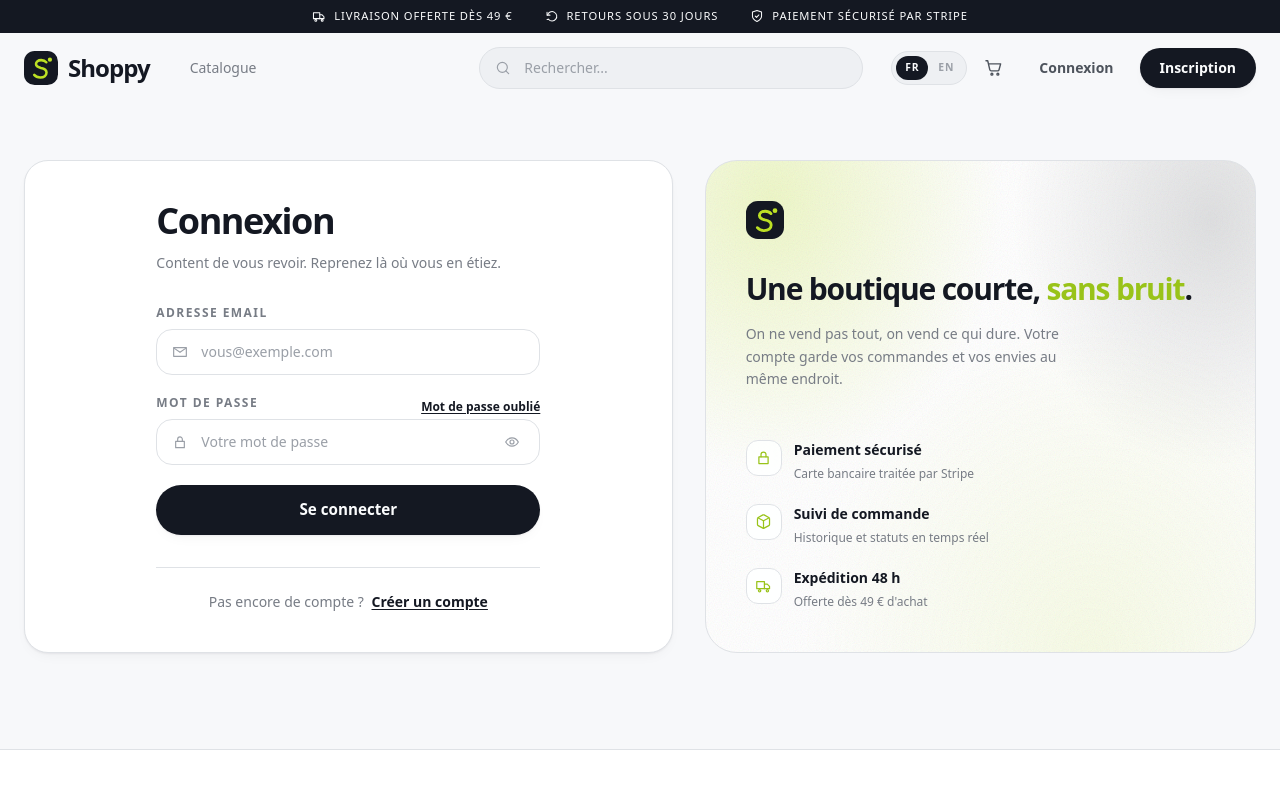
it: LoginPage › logs in and redirects to the catalog
This screenshot has width=1280, height=800.
In the field labelled "Adresse email": (348, 352) [156,329,540,375], type "visitor@shoppy.test"
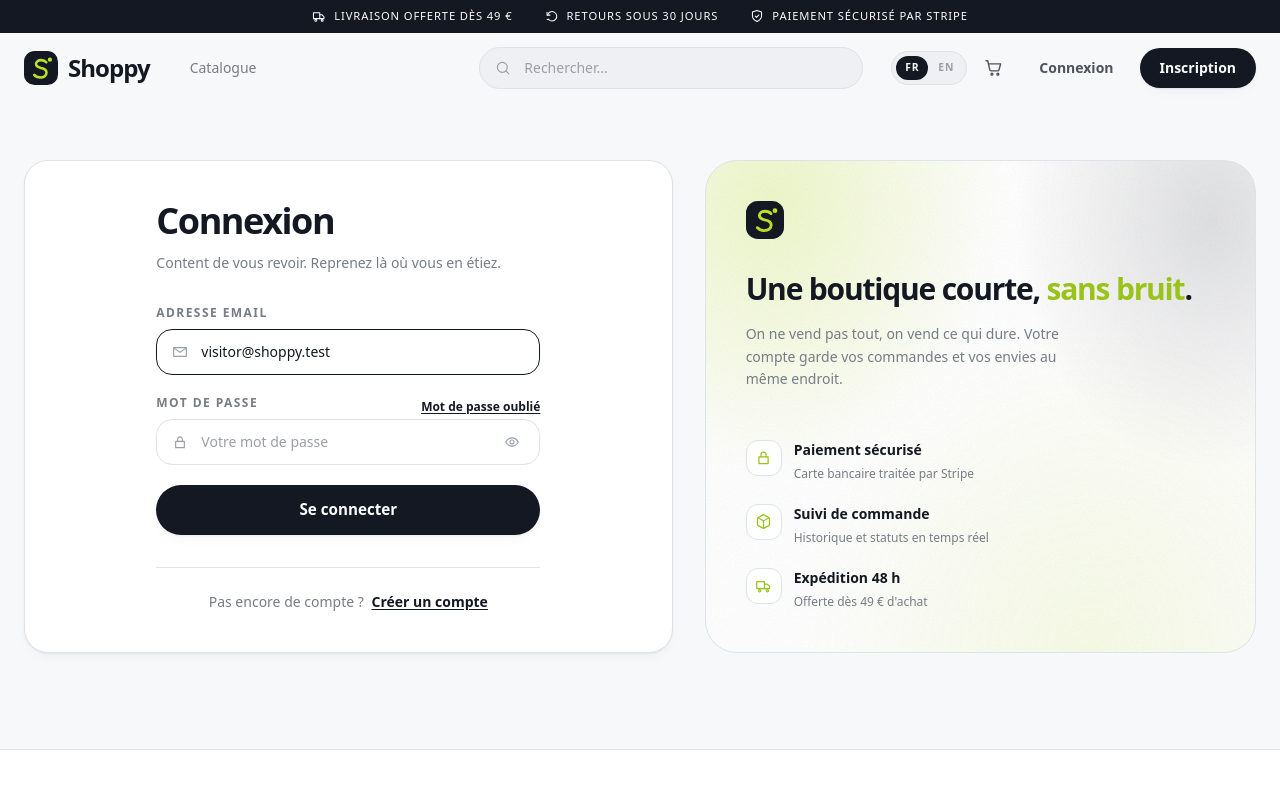
In the password field labelled "Mot de passe": (348, 442) [156,419,540,465], type "password123"
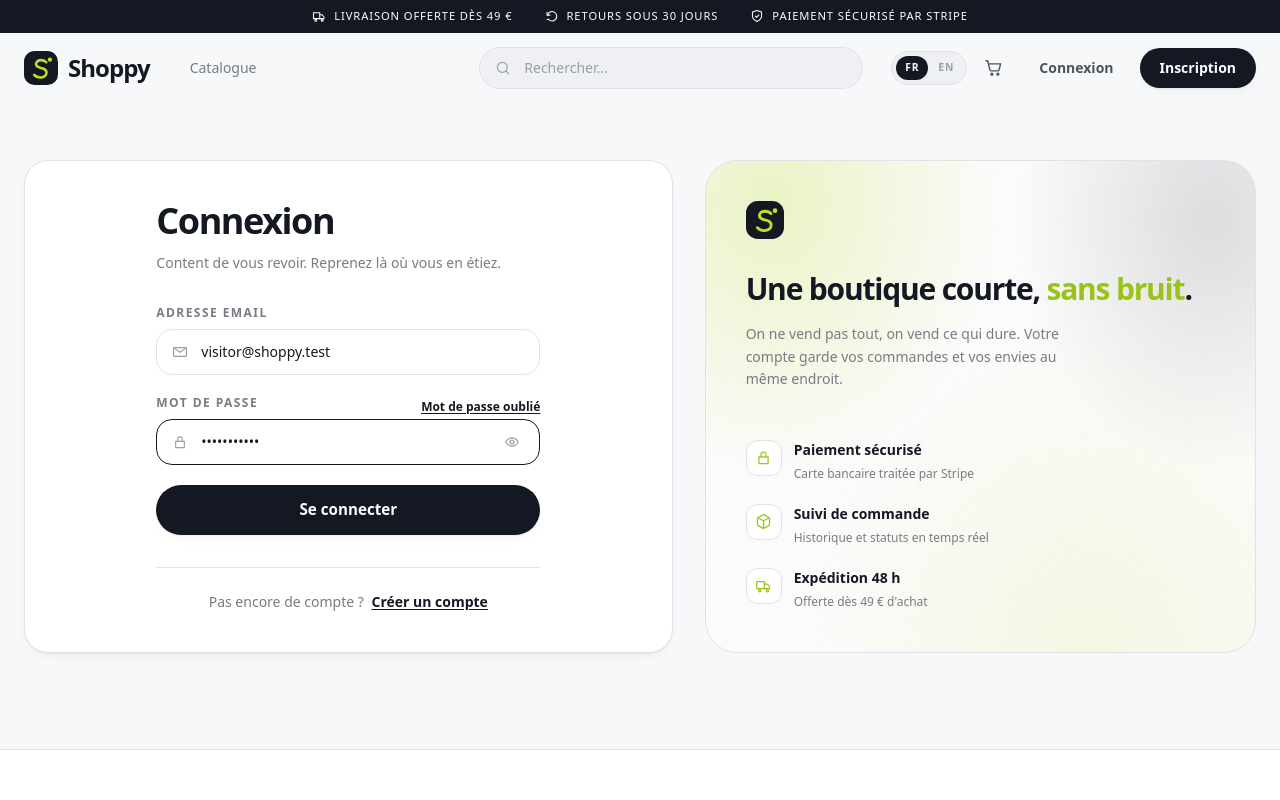
Click the button "Se connecter": (348, 510) [156,485,540,534]
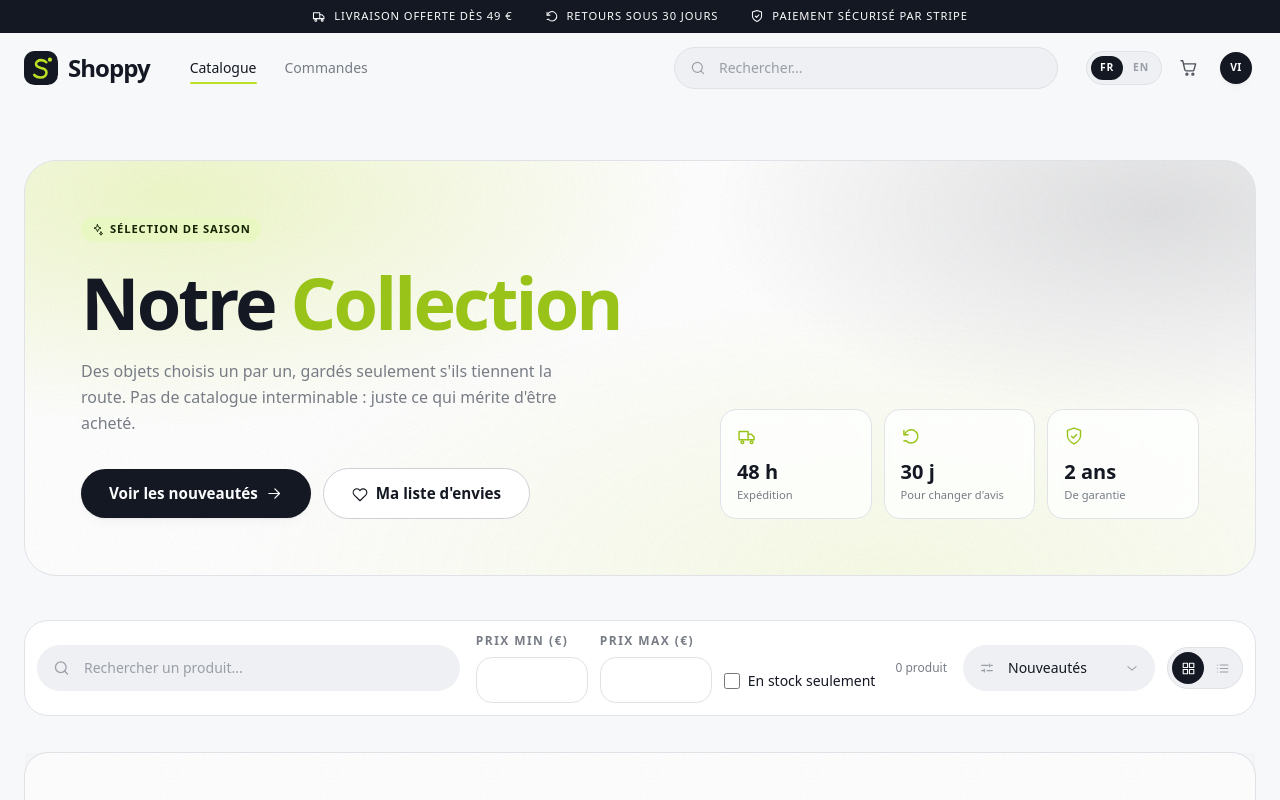
Result: the button with aria-label "Mon compte" is shown at [1216,48,1256,88]
